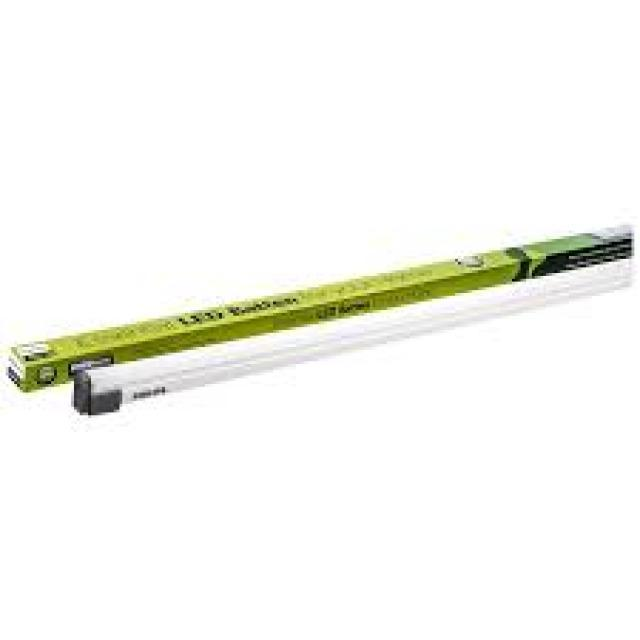tubelight_off: (53, 250, 640, 420)
